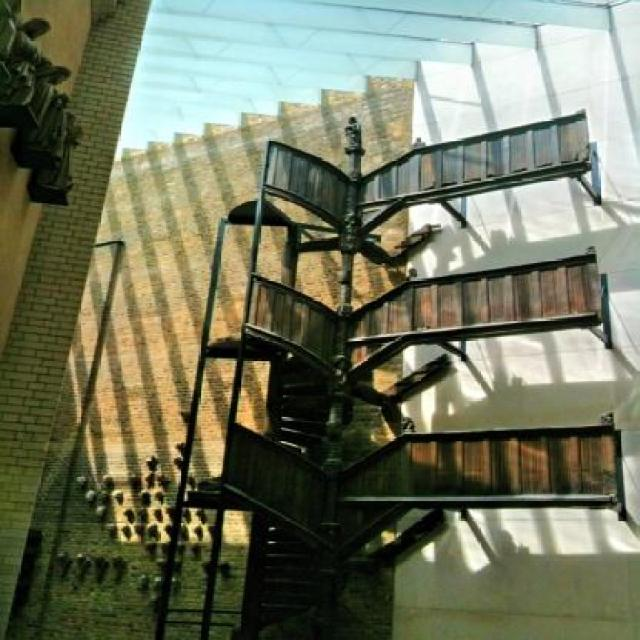stair: (181, 349, 354, 640)
